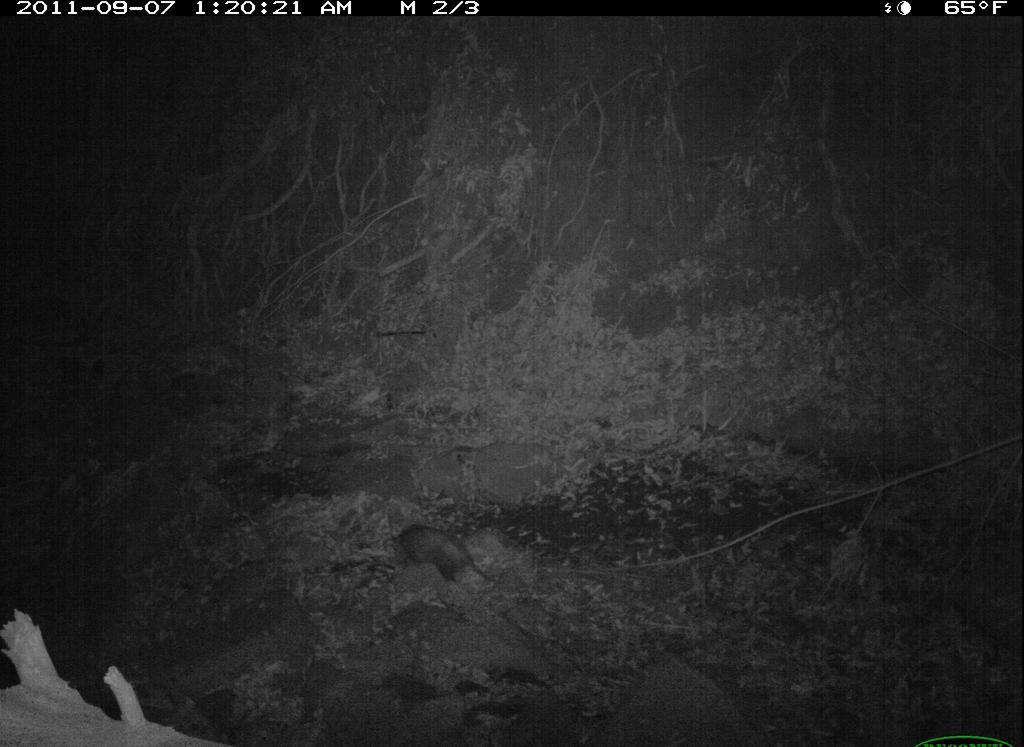opossum: (385, 516, 509, 605)
